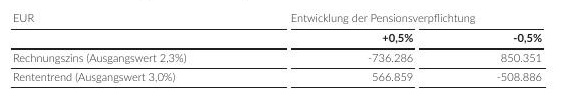table: (0, 0, 564, 96)
